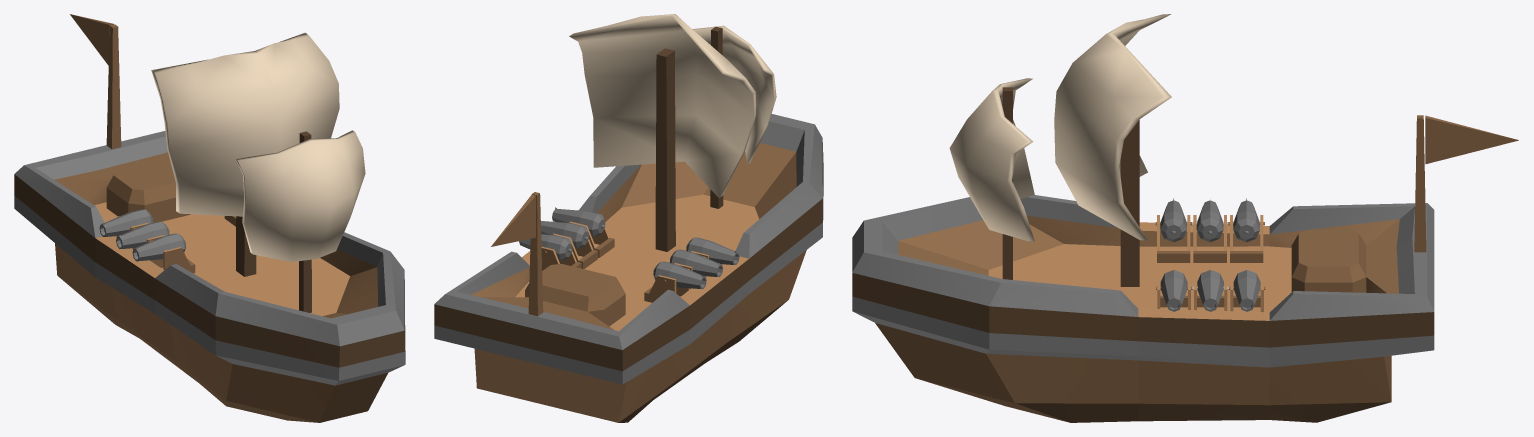
The model's file is ship.glb.
3 renders of one model, left to right at view 1: azimuth 30°, elevation 25°; view 2: azimuth 150°, elevation 25°; view 3: azimuth 270°, elevation 25°, orthographic. The views are drawn at different scales.
Visible parts, largest first — view 1: Boat_T1_Hull, Hull_2, Sails_1.001, Hull_1, object 5; view 2: Boat_T1_Hull, Hull_2, Hull_1, object 5, Sails_1.001; view 3: Boat_T1_Hull, Hull_2, Hull_1, Sails_1.001, object 5.
Boxes of the visible parts, x1,y1,x2,y2 form: Boat_T1_Hull: (14, 14, 405, 422); Hull_2: (14, 131, 404, 346); Sails_1.001: (235, 130, 365, 312); Hull_1: (14, 195, 405, 385); object 5: (99, 209, 236, 273); Boat_T1_Hull: (434, 14, 823, 422); Hull_2: (434, 114, 822, 349); Hull_1: (434, 163, 823, 384); object 5: (519, 207, 739, 302); Sails_1.001: (692, 25, 776, 208); Boat_T1_Hull: (852, 14, 1518, 422); Hull_2: (852, 195, 1434, 320); Hull_1: (852, 296, 1434, 367); Sails_1.001: (949, 78, 1034, 279); object 5: (1155, 198, 1265, 312).
Bounding box in the file's own units: 3309 × 5510 × 9148.
